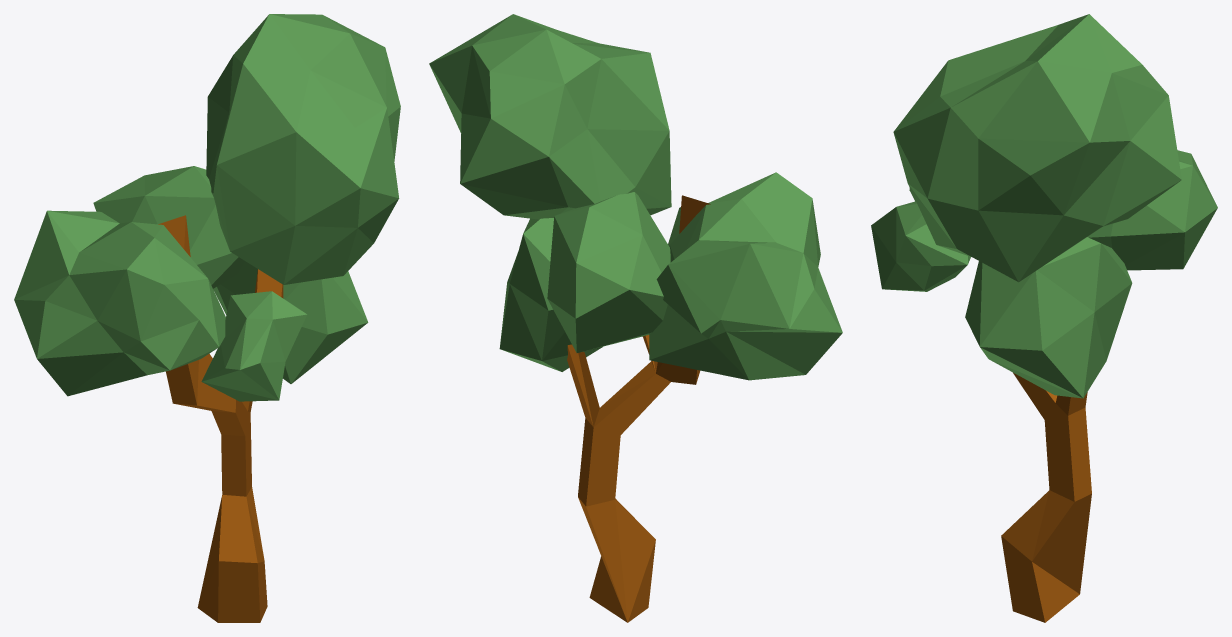
Rendered from shu.FBX.
3 renders of one model, left to right at view 1: azimuth 30°, elevation 25°; view 2: azimuth 150°, elevation 25°; view 3: azimuth 270°, elevation 25°, orthographic. The views are drawn at different scales.
Parts seen in each view (by area): view 1: Group002, Line003; view 2: Group002, Line003; view 3: Group002, Line003.
Part boxes in pixels (x1,y1,x2,y2): Group002: [14, 14, 400, 401]; Line003: [158, 215, 283, 622]; Group002: [429, 14, 842, 380]; Line003: [567, 195, 710, 622]; Group002: [871, 14, 1217, 398]; Line003: [1001, 372, 1091, 622].
Bounding box in the file's own units: 270 × 390 × 198.
